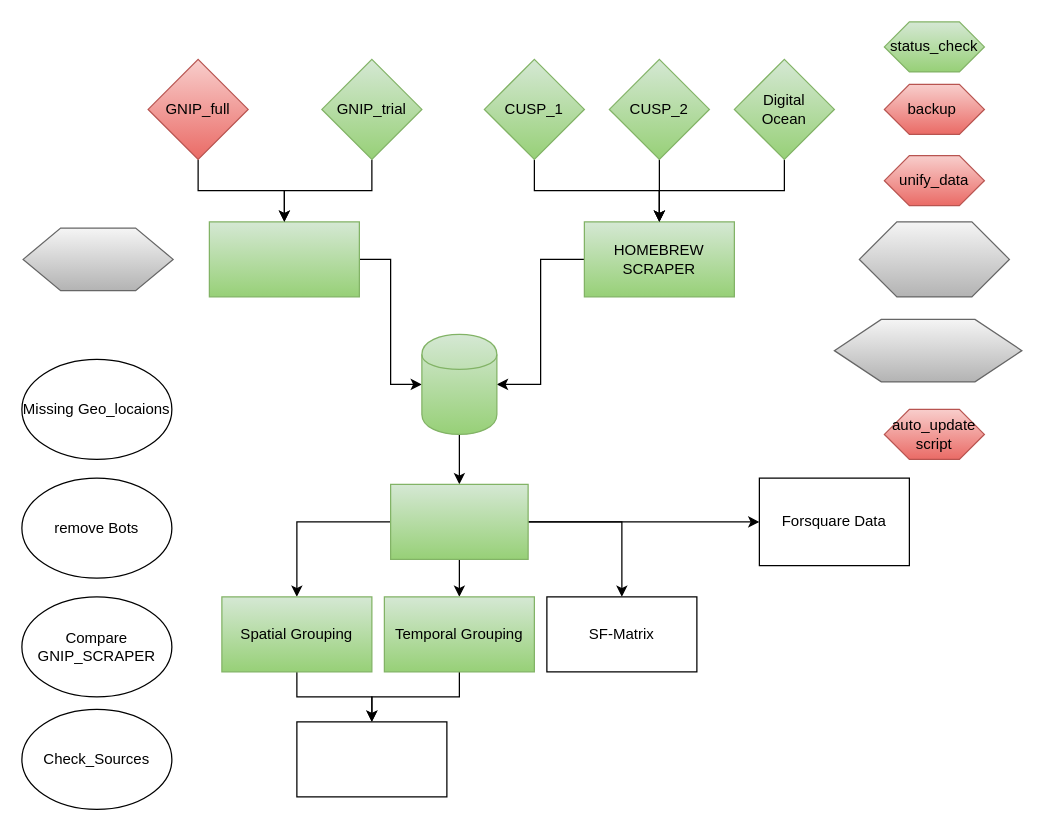
The diagram is 1044 pixels wide and 831 high, and some of its shapes have lost their labels. Each missing label, with the centre of its shape:
"aggregate" belongs at (x=459, y=383).
"aggregate Everything script" belongs at (x=927, y=350).
"aggregate Gnip script" belongs at (x=97, y=259).
"aggregate Scraper script" belongs at (x=933, y=259).
"Clustering" belongs at (x=371, y=759).
"EDA" belongs at (x=458, y=521).
"GNIP DATA" belongs at (x=283, y=259).
